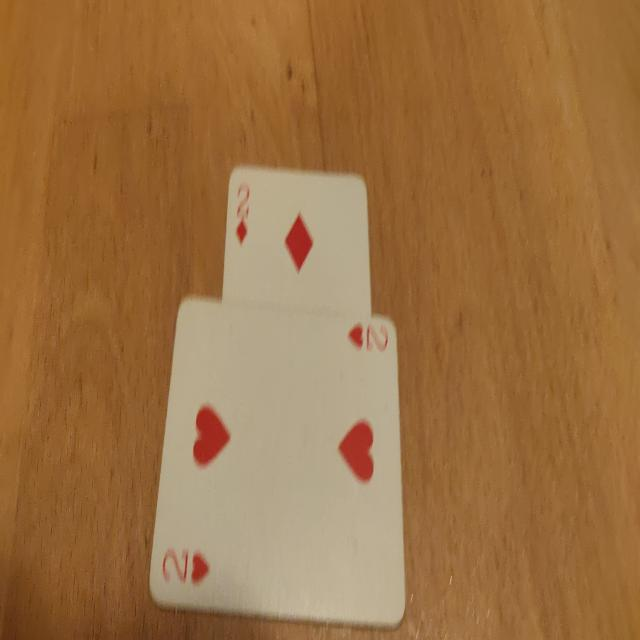Diamond: (285, 214, 312, 272), (237, 220, 247, 244)
Heart: (193, 404, 230, 466), (338, 422, 374, 481), (191, 554, 209, 582), (348, 322, 363, 350)
